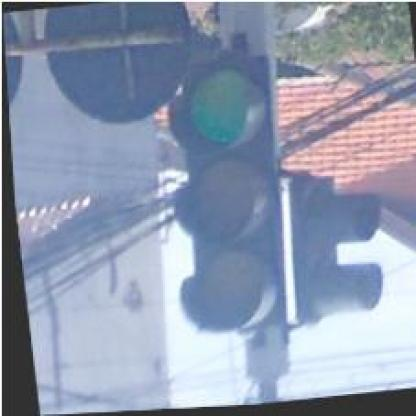green: (157, 57, 286, 339)
